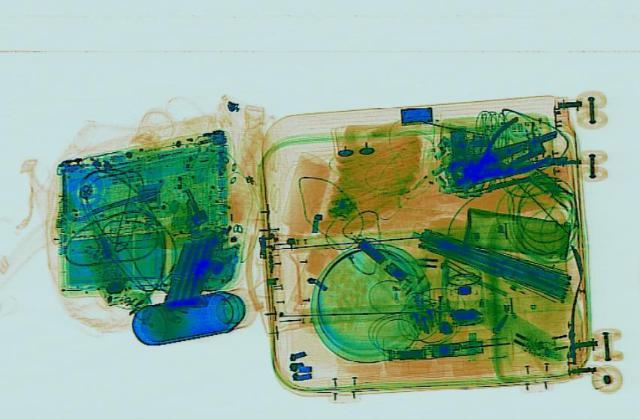Pliers: (429, 115, 566, 195), (440, 130, 576, 188)
